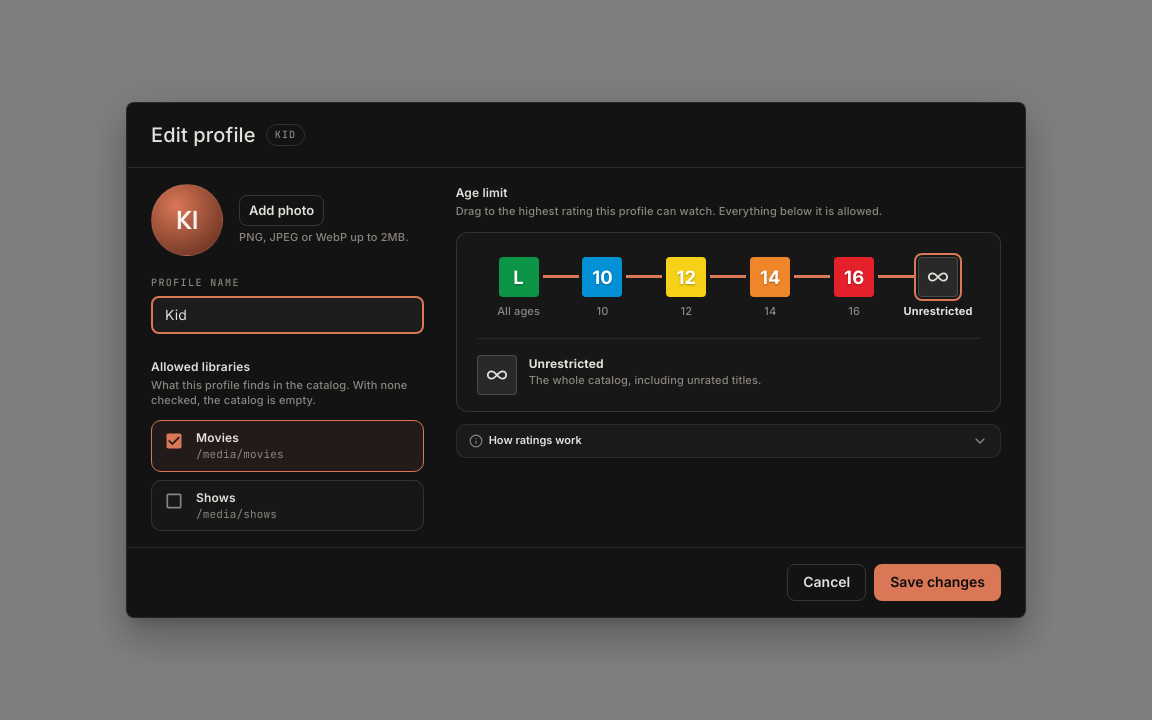
Test: ProfileFormDialog — maturity limit › keeps “how ratings work” closed until asked, and warns there about cached video
Click the button "How ratings work": (535, 440) left=457, top=425, right=1000, bottom=457
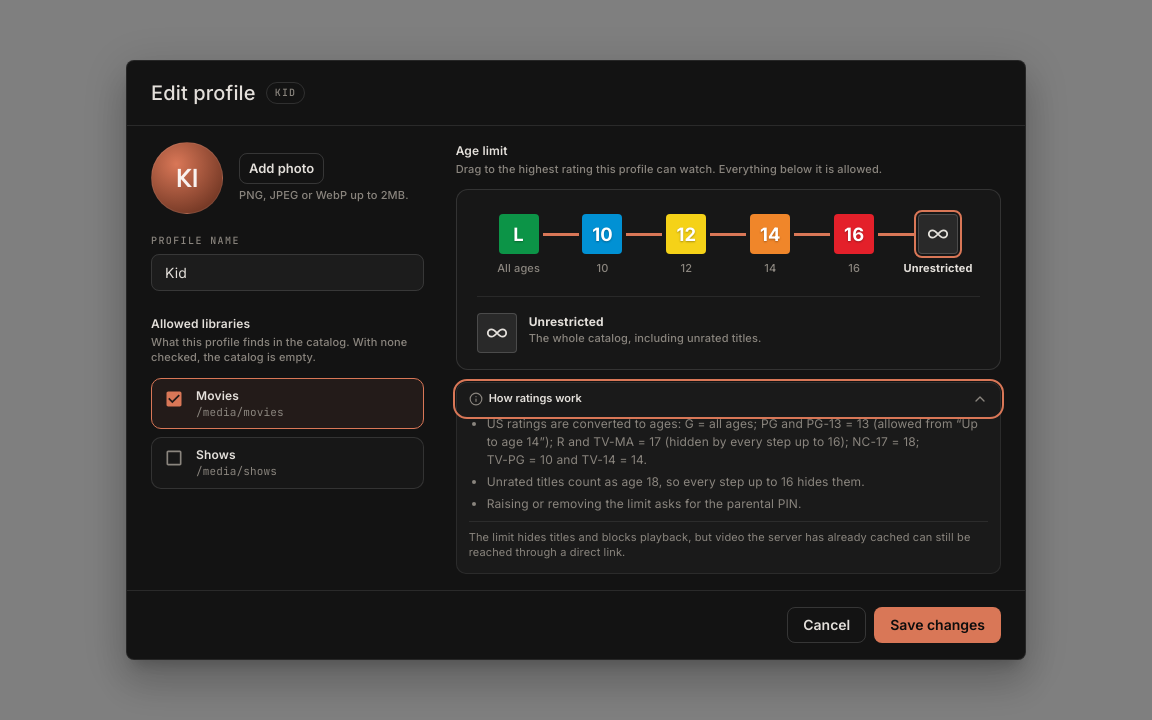
Check: the button "How ratings work" is expanded, box left=457, top=382, right=1000, bottom=414
Check: the text "video the server has already cached can still be reached" is shown, box left=469, top=530, right=970, bottom=559
